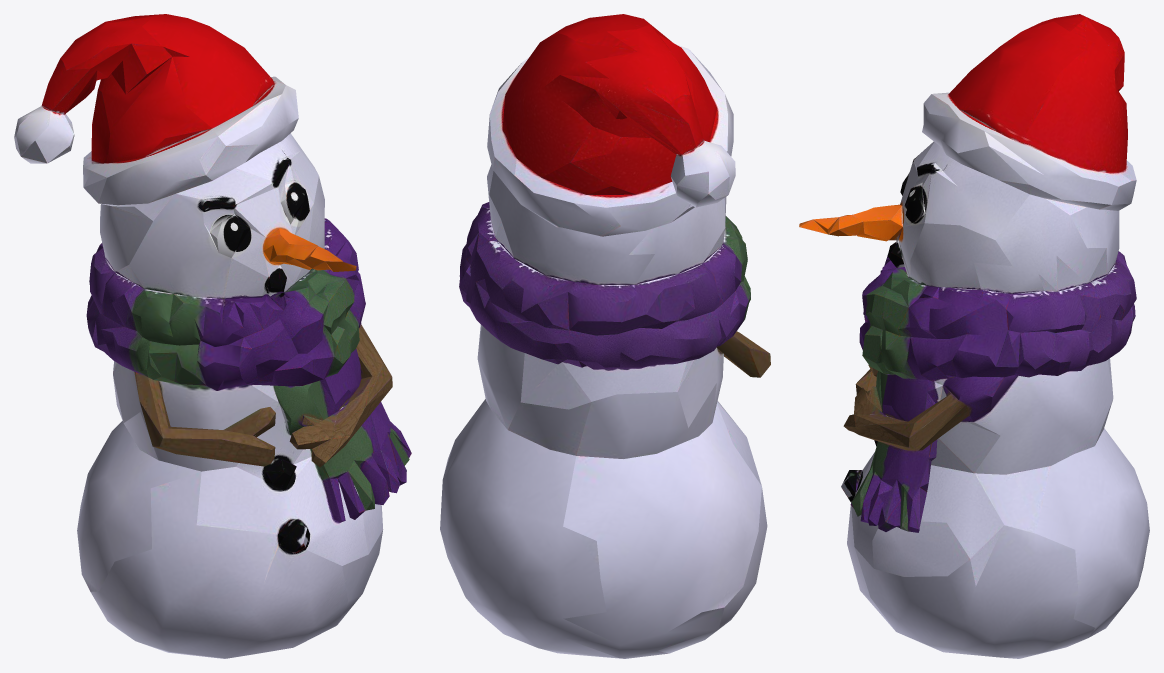
File: snowman3.glb
3 renders of one model, left to right at view 1: azimuth 30°, elevation 25°; view 2: azimuth 150°, elevation 25°; view 3: azimuth 270°, elevation 25°, orthographic. The views are drawn at different scales.
Parts seen in each view (by area): view 1: output_unwrapped; view 2: output_unwrapped; view 3: output_unwrapped.
Boxes of the visible parts, bbox=[...] form: output_unwrapped: bbox=[14, 14, 411, 658]; output_unwrapped: bbox=[440, 14, 770, 658]; output_unwrapped: bbox=[799, 14, 1149, 658].
Bounding box in the file's own units: 1.02 × 1.9 × 1.05.
1 material, 1 textured.
